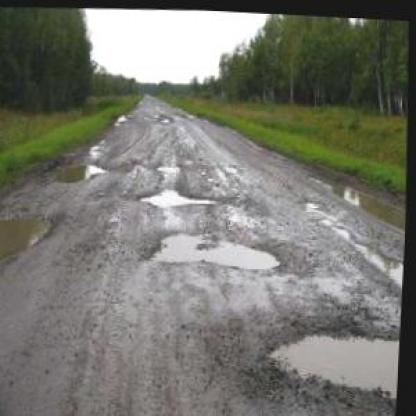pothole: (140, 221, 287, 273), (0, 208, 60, 263), (138, 182, 224, 209), (56, 154, 112, 187), (157, 158, 184, 173), (115, 111, 129, 125)
